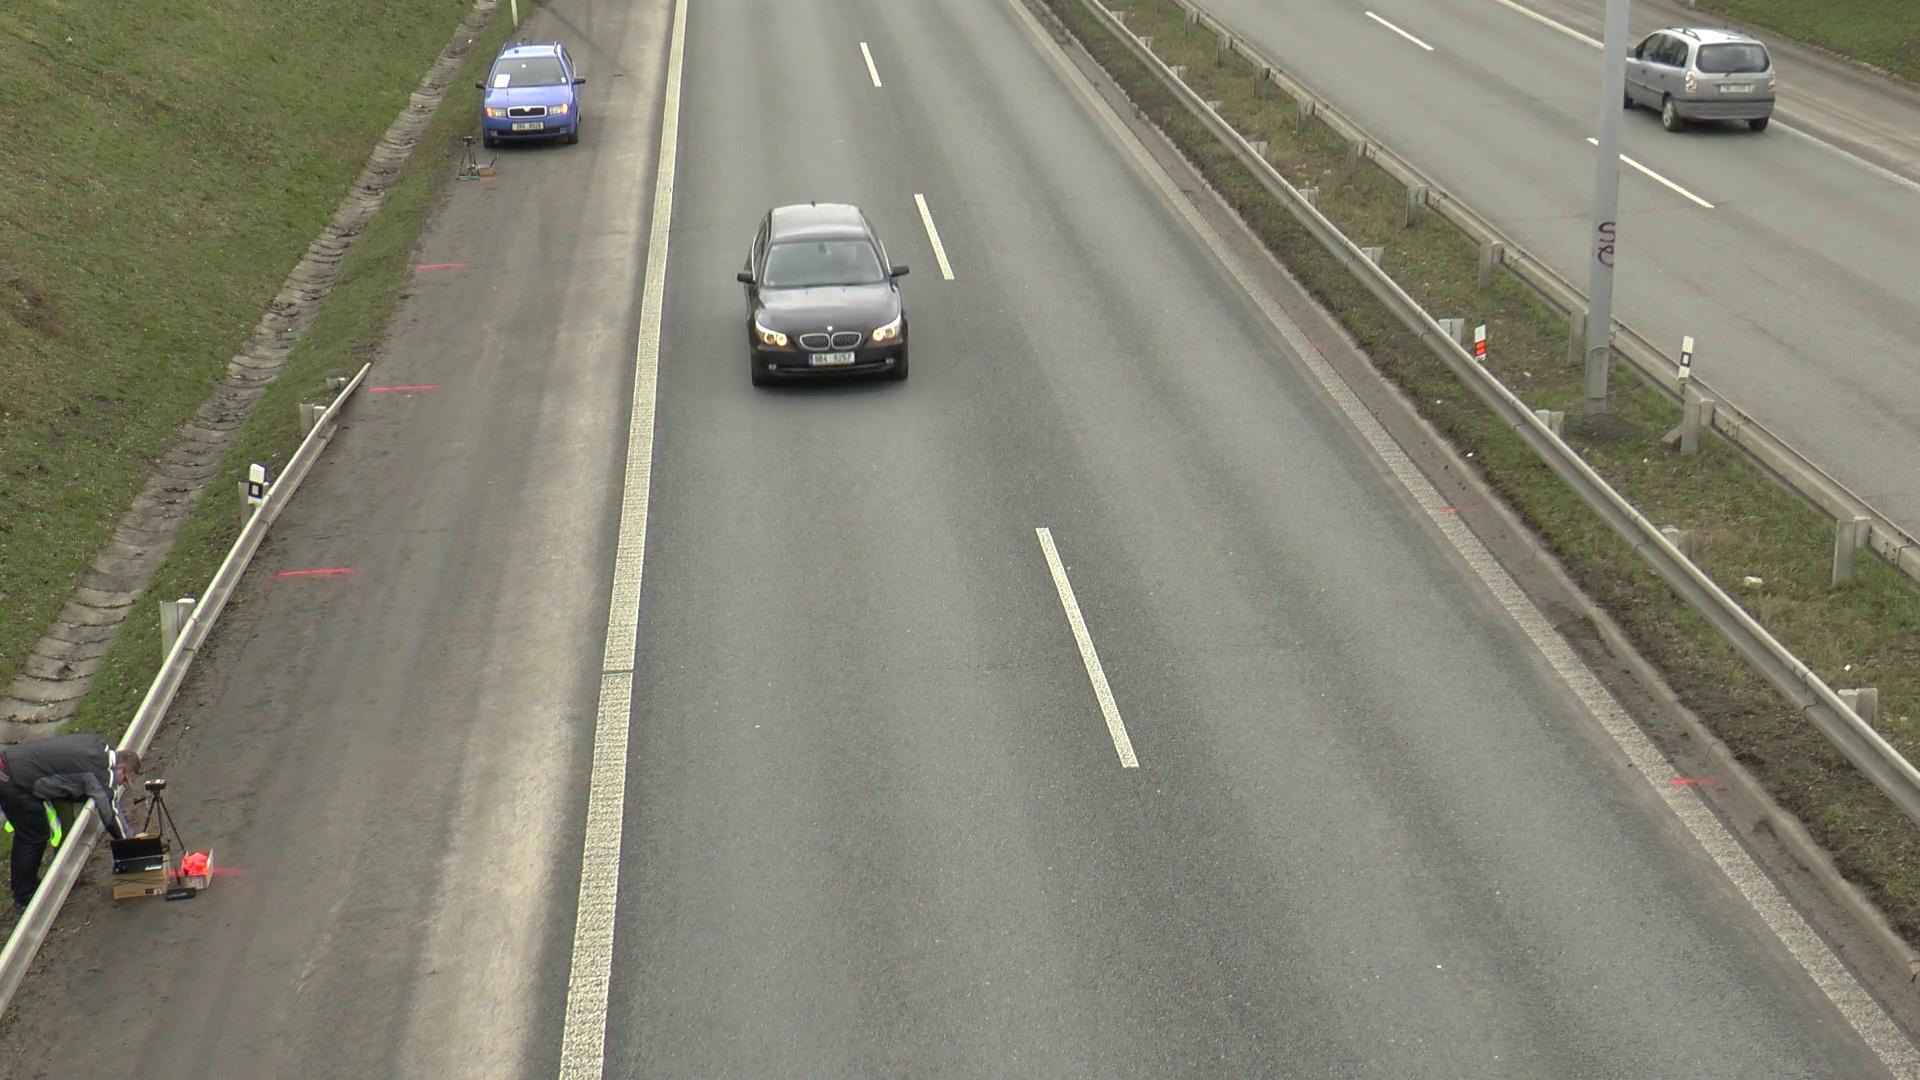Car: (732, 204, 931, 398), (1598, 28, 1800, 139), (466, 42, 605, 175)
Human: (5, 730, 156, 909)
